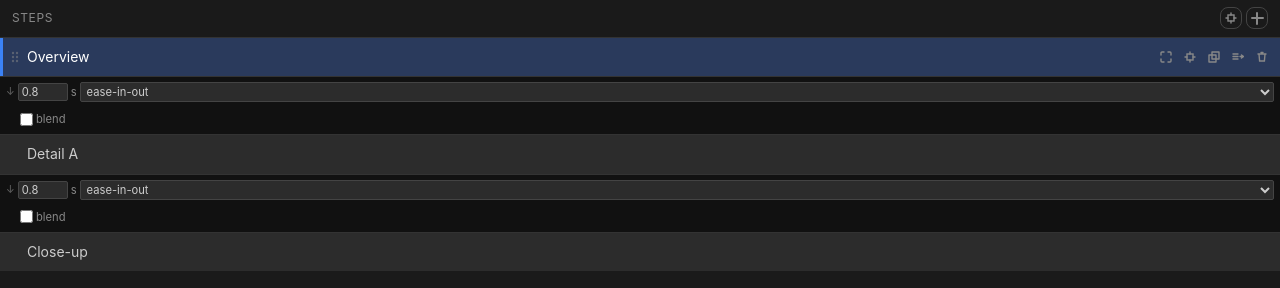
Scenario: StepList › shows an inline input on double-click
Double-click the text "Overview" at [58, 56], box [27,48,90,65]
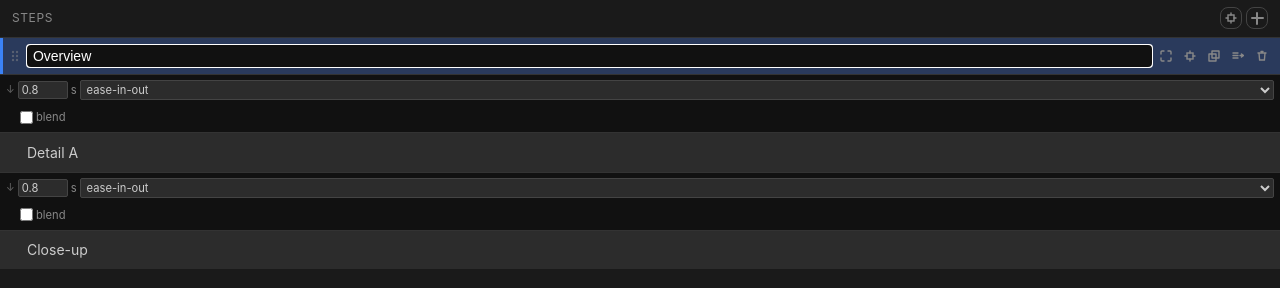
Check: the field named "Step name" holds "Overview", box [27,45,1152,67]
